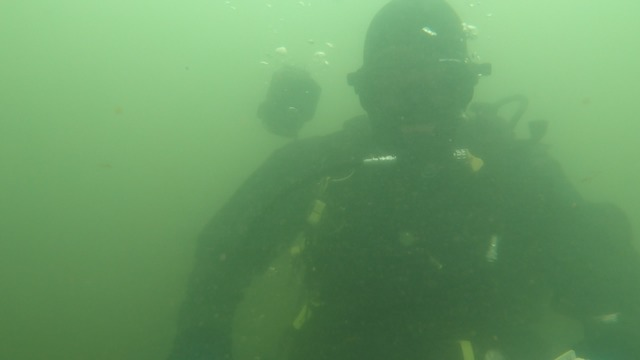Diver: (150, 4, 635, 357)
Head: (336, 4, 493, 175)
